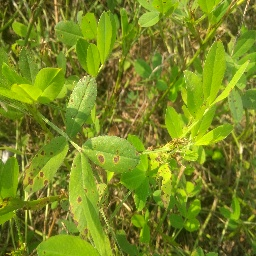GroundNut_Leaf: (22, 136, 68, 193), (65, 76, 97, 135), (82, 137, 143, 167), (202, 38, 226, 104), (70, 168, 94, 233), (37, 235, 100, 256), (35, 66, 64, 104), (1, 71, 32, 105), (75, 39, 100, 75), (1, 156, 19, 199), (165, 105, 182, 144), (101, 11, 113, 61), (54, 17, 74, 45), (138, 9, 160, 27), (187, 200, 200, 220)
